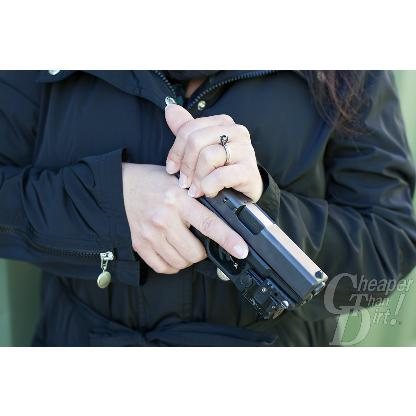gun: (146, 148, 328, 320)
